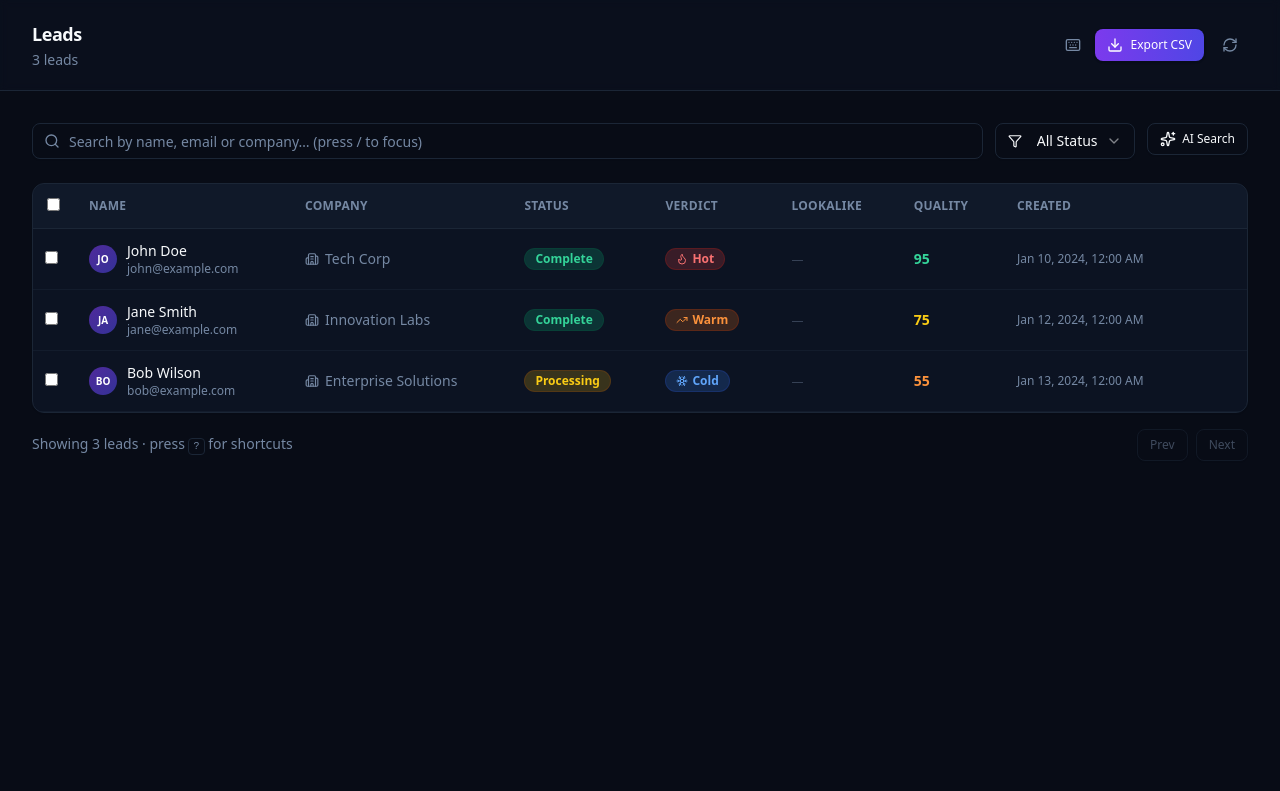
Leads page › opens lead detail panel on row click
Check: the text "John Doe" is shown, box [127, 241, 187, 260]
Click the element showing "John Doe john@example.com" at (183, 259), box [127, 241, 238, 277]
(page scrolled)
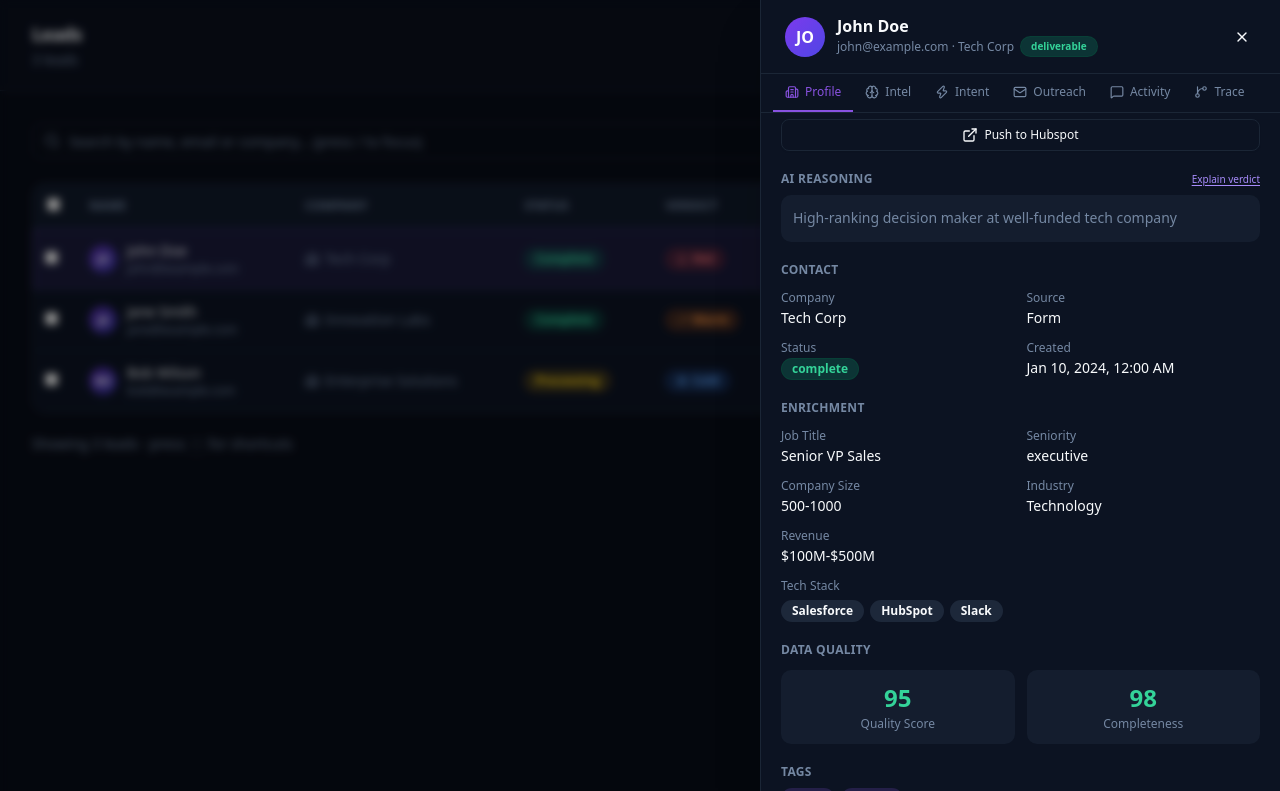
Check: the text "Senior VP Sales" is shown, box [781, 446, 881, 465]
